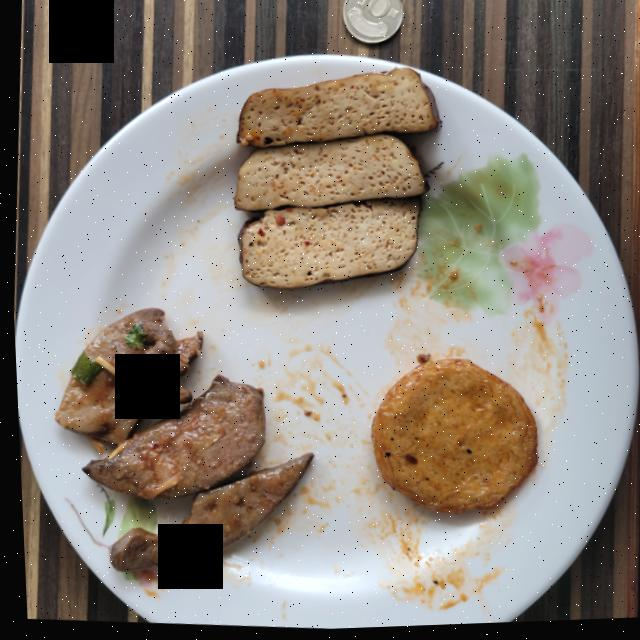coin: (342, 0, 402, 46)
firm tofu: (232, 71, 439, 290)
fish cake: (367, 362, 533, 516)
pig liver: (51, 308, 307, 572)
